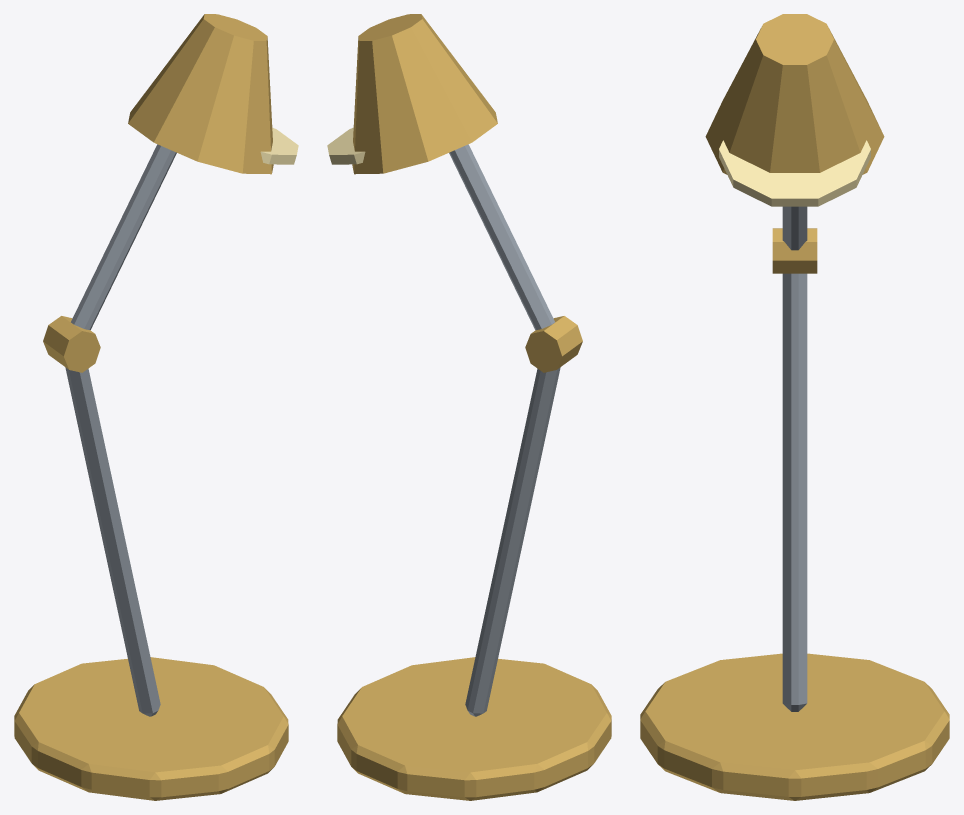
Rendered from desk_lamp.glb.
3 views of the same model, side by side, from view 1: azimuth 30°, elevation 25°; view 2: azimuth 150°, elevation 25°; view 3: azimuth 270°, elevation 25° (orthographic). The views are drawn at different scales.
Visible parts, largest first — view 1: desk_lamp_Body; view 2: desk_lamp_Body; view 3: desk_lamp_Body.
Boxes of the visible parts, x1,y1,x2,y2 form: desk_lamp_Body: [14, 14, 298, 800]; desk_lamp_Body: [327, 14, 611, 800]; desk_lamp_Body: [640, 14, 949, 800].
Bounding box in the file's own units: 0.3 × 0.8 × 0.296.
